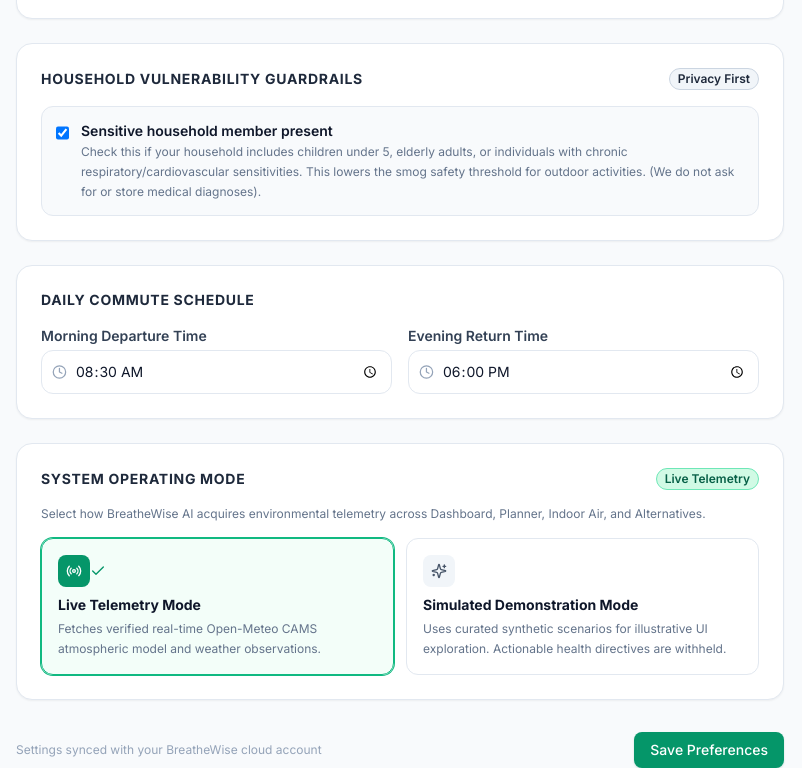
Test: Phase 7.6 — Mode Controls & Final Integration › 3. SettingsPage Mode Controls & Carry-Forward Bug Resolution › 3.3 Authenticated user awaits cloud write and shows success upon resolution
(page scrolled)
Step 1. Click the button with test id "save-preferences-button" → click(709, 750), box [634, 732, 784, 767]
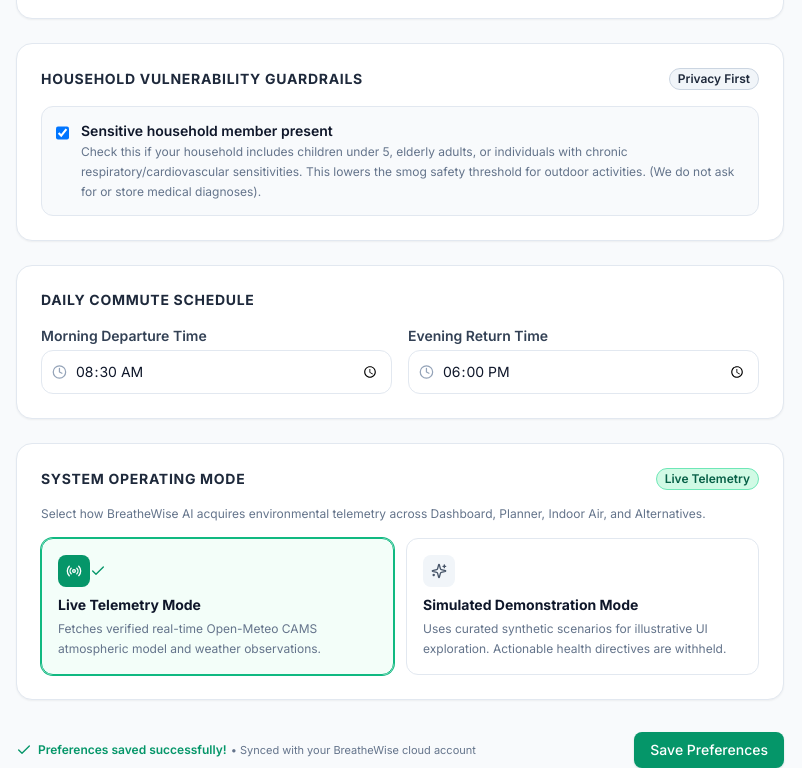
Result: the element with test id "save-success-indicator" is shown at [16, 742, 227, 758]
Result: the text "• Synced with your BreatheWise cloud account" is shown at [231, 742, 476, 758]
